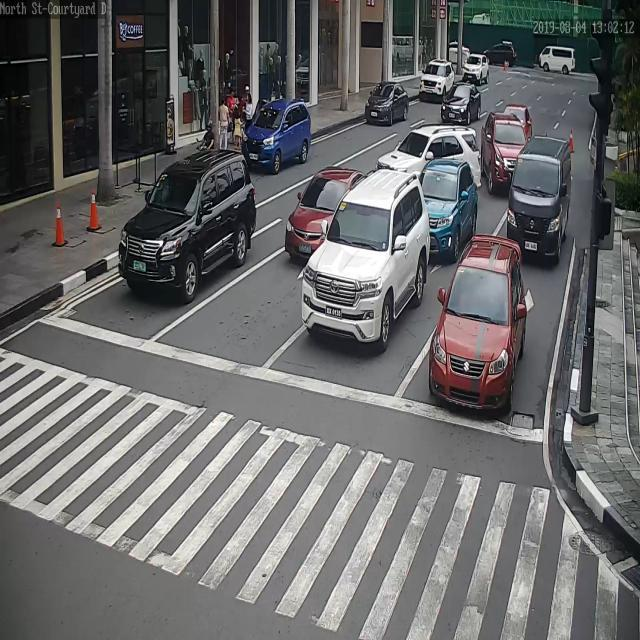car: (298, 168, 433, 351), (118, 146, 256, 305), (427, 234, 531, 414), (284, 169, 365, 265), (417, 160, 479, 268), (378, 124, 481, 182), (243, 98, 314, 175), (478, 111, 532, 197), (364, 84, 410, 130), (440, 83, 484, 125), (418, 58, 458, 101), (503, 104, 534, 141), (484, 41, 521, 68), (462, 55, 489, 86)
jeepney: (196, 117, 216, 152)
van: (505, 139, 575, 265), (537, 45, 580, 74)
